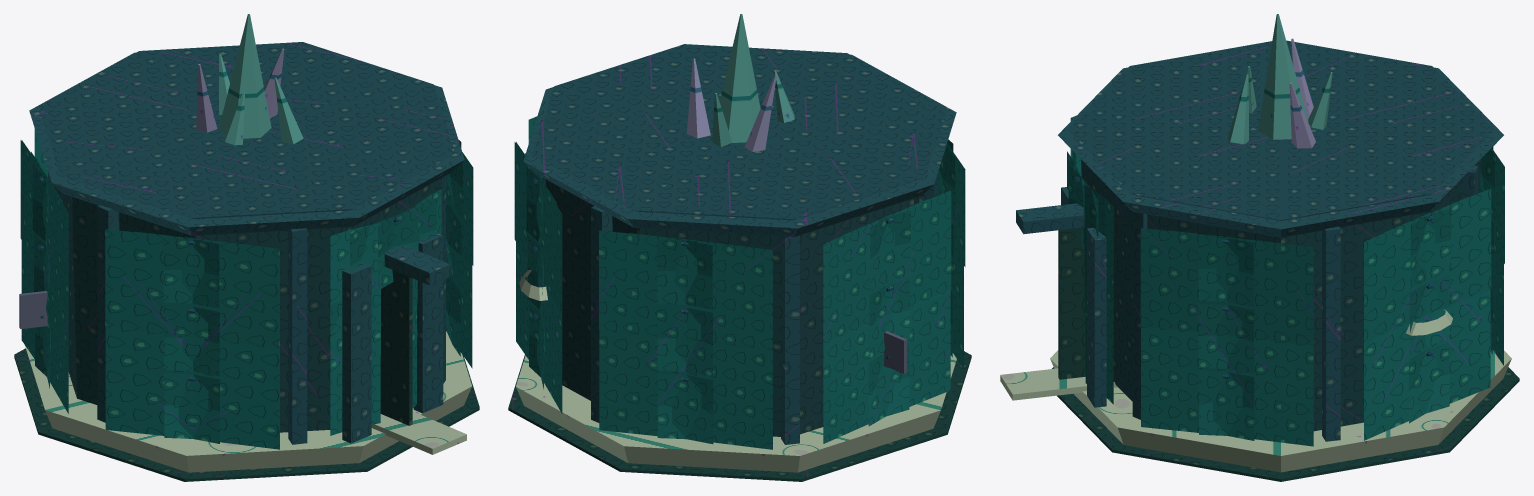
Rendered from env_hut_residential_b.glb.
The picture shows the model from 3 angles, left to right: view 1: azimuth 30°, elevation 25°; view 2: azimuth 150°, elevation 25°; view 3: azimuth 270°, elevation 25°; orthographic projection.
Parts seen in each view (by area): view 1: lod0__hut_b_shell, lod1__hut_b_shell, lod0__hut_b_clay, lod2__hut_b_shell, lod0__hut_b_alloy; view 2: lod0__hut_b_shell, lod1__hut_b_shell, lod2__hut_b_shell, lod0__hut_b_clay, lod0__hut_b_alloy; view 3: lod0__hut_b_shell, lod1__hut_b_shell, lod0__hut_b_clay, lod2__hut_b_shell.
Boxes of the visible parts, x1,y1,x2,y2 form: lod0__hut_b_shell: (14,42,479,481); lod1__hut_b_shell: (20,129,473,449); lod0__hut_b_clay: (25,14,471,472); lod2__hut_b_shell: (21,131,472,448); lod0__hut_b_alloy: (19,291,47,328); lod0__hut_b_shell: (508,44,971,481); lod1__hut_b_shell: (514,116,965,449); lod2__hut_b_shell: (516,117,963,449); lod0__hut_b_clay: (516,14,956,472); lod0__hut_b_alloy: (884,331,906,373); lod0__hut_b_shell: (1016,40,1519,481); lod1__hut_b_shell: (1070,115,1504,446); lod0__hut_b_clay: (1000,14,1511,472); lod2__hut_b_shell: (1071,116,1503,445).
Bounding box in the file's own units: 4.96 × 4.2 × 5.4.
Materials: 3 (2 with a texture image).
